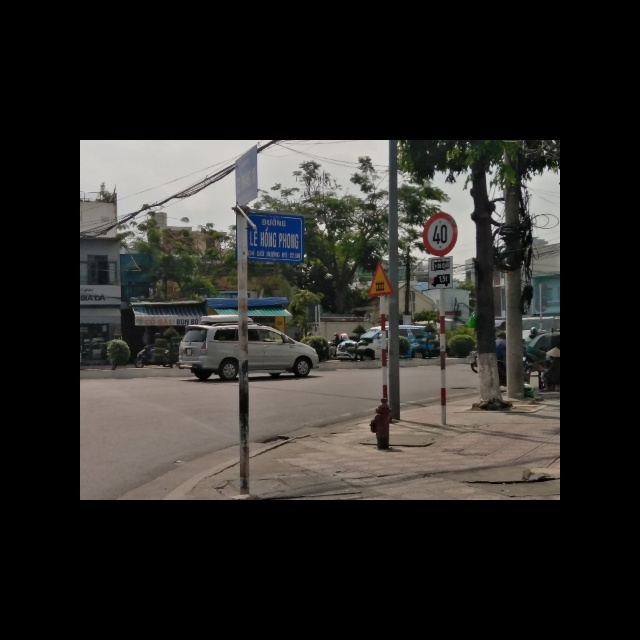Giao nhau với đường sắt có rào chắn: (367, 260, 393, 297)
Tốc độ tối đa cho phép 40km/h: (424, 212, 458, 258)
